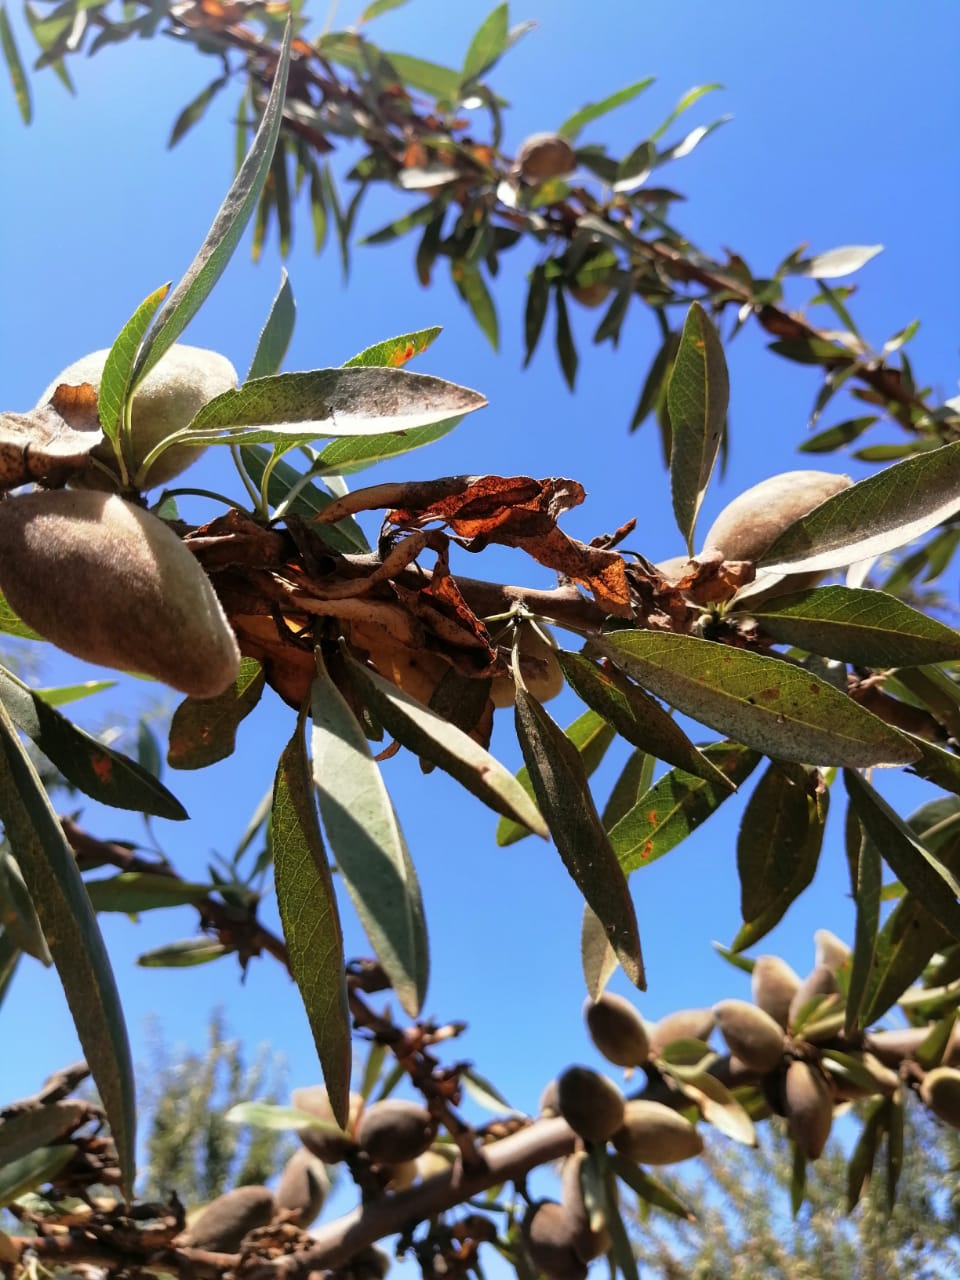scolytes: (190, 1, 813, 350), (179, 475, 761, 711)
